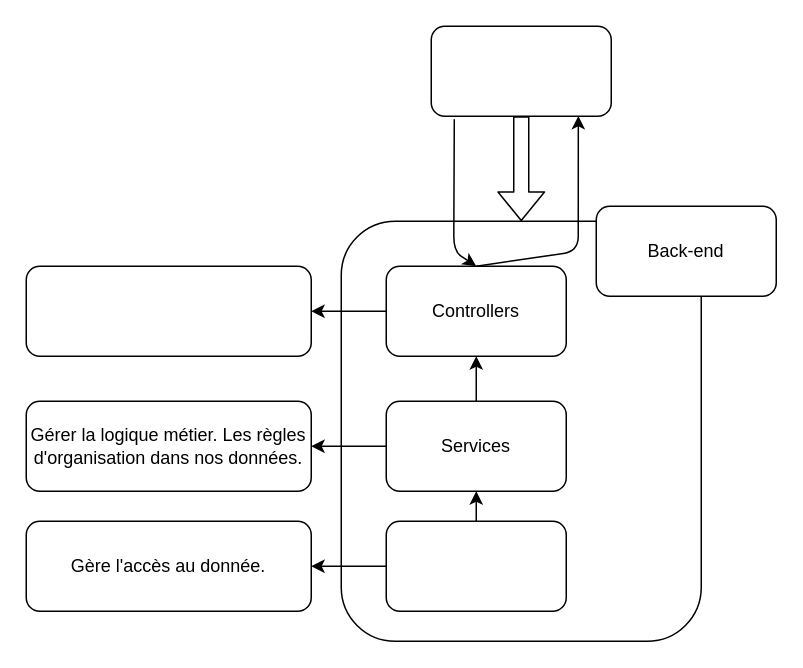
Image size: 803x668. Some labels were removed from this diagram. The box of each missing label's shape, as (x1, y1, x2, y2) in pixels:
Gérer les requettes HTTP et envoie une réponse au client.: (25, 265, 311, 356)
Repositories: (385, 520, 566, 611)
Utilisateur: (430, 25, 611, 116)
